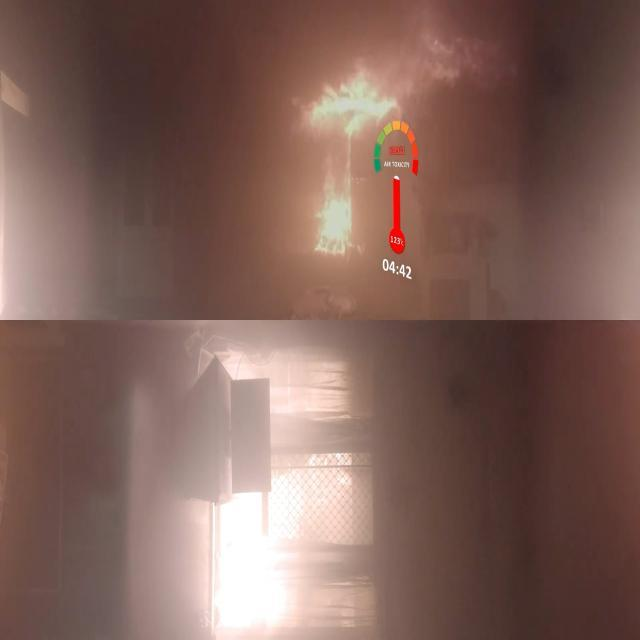Fire: (288, 66, 423, 318)
